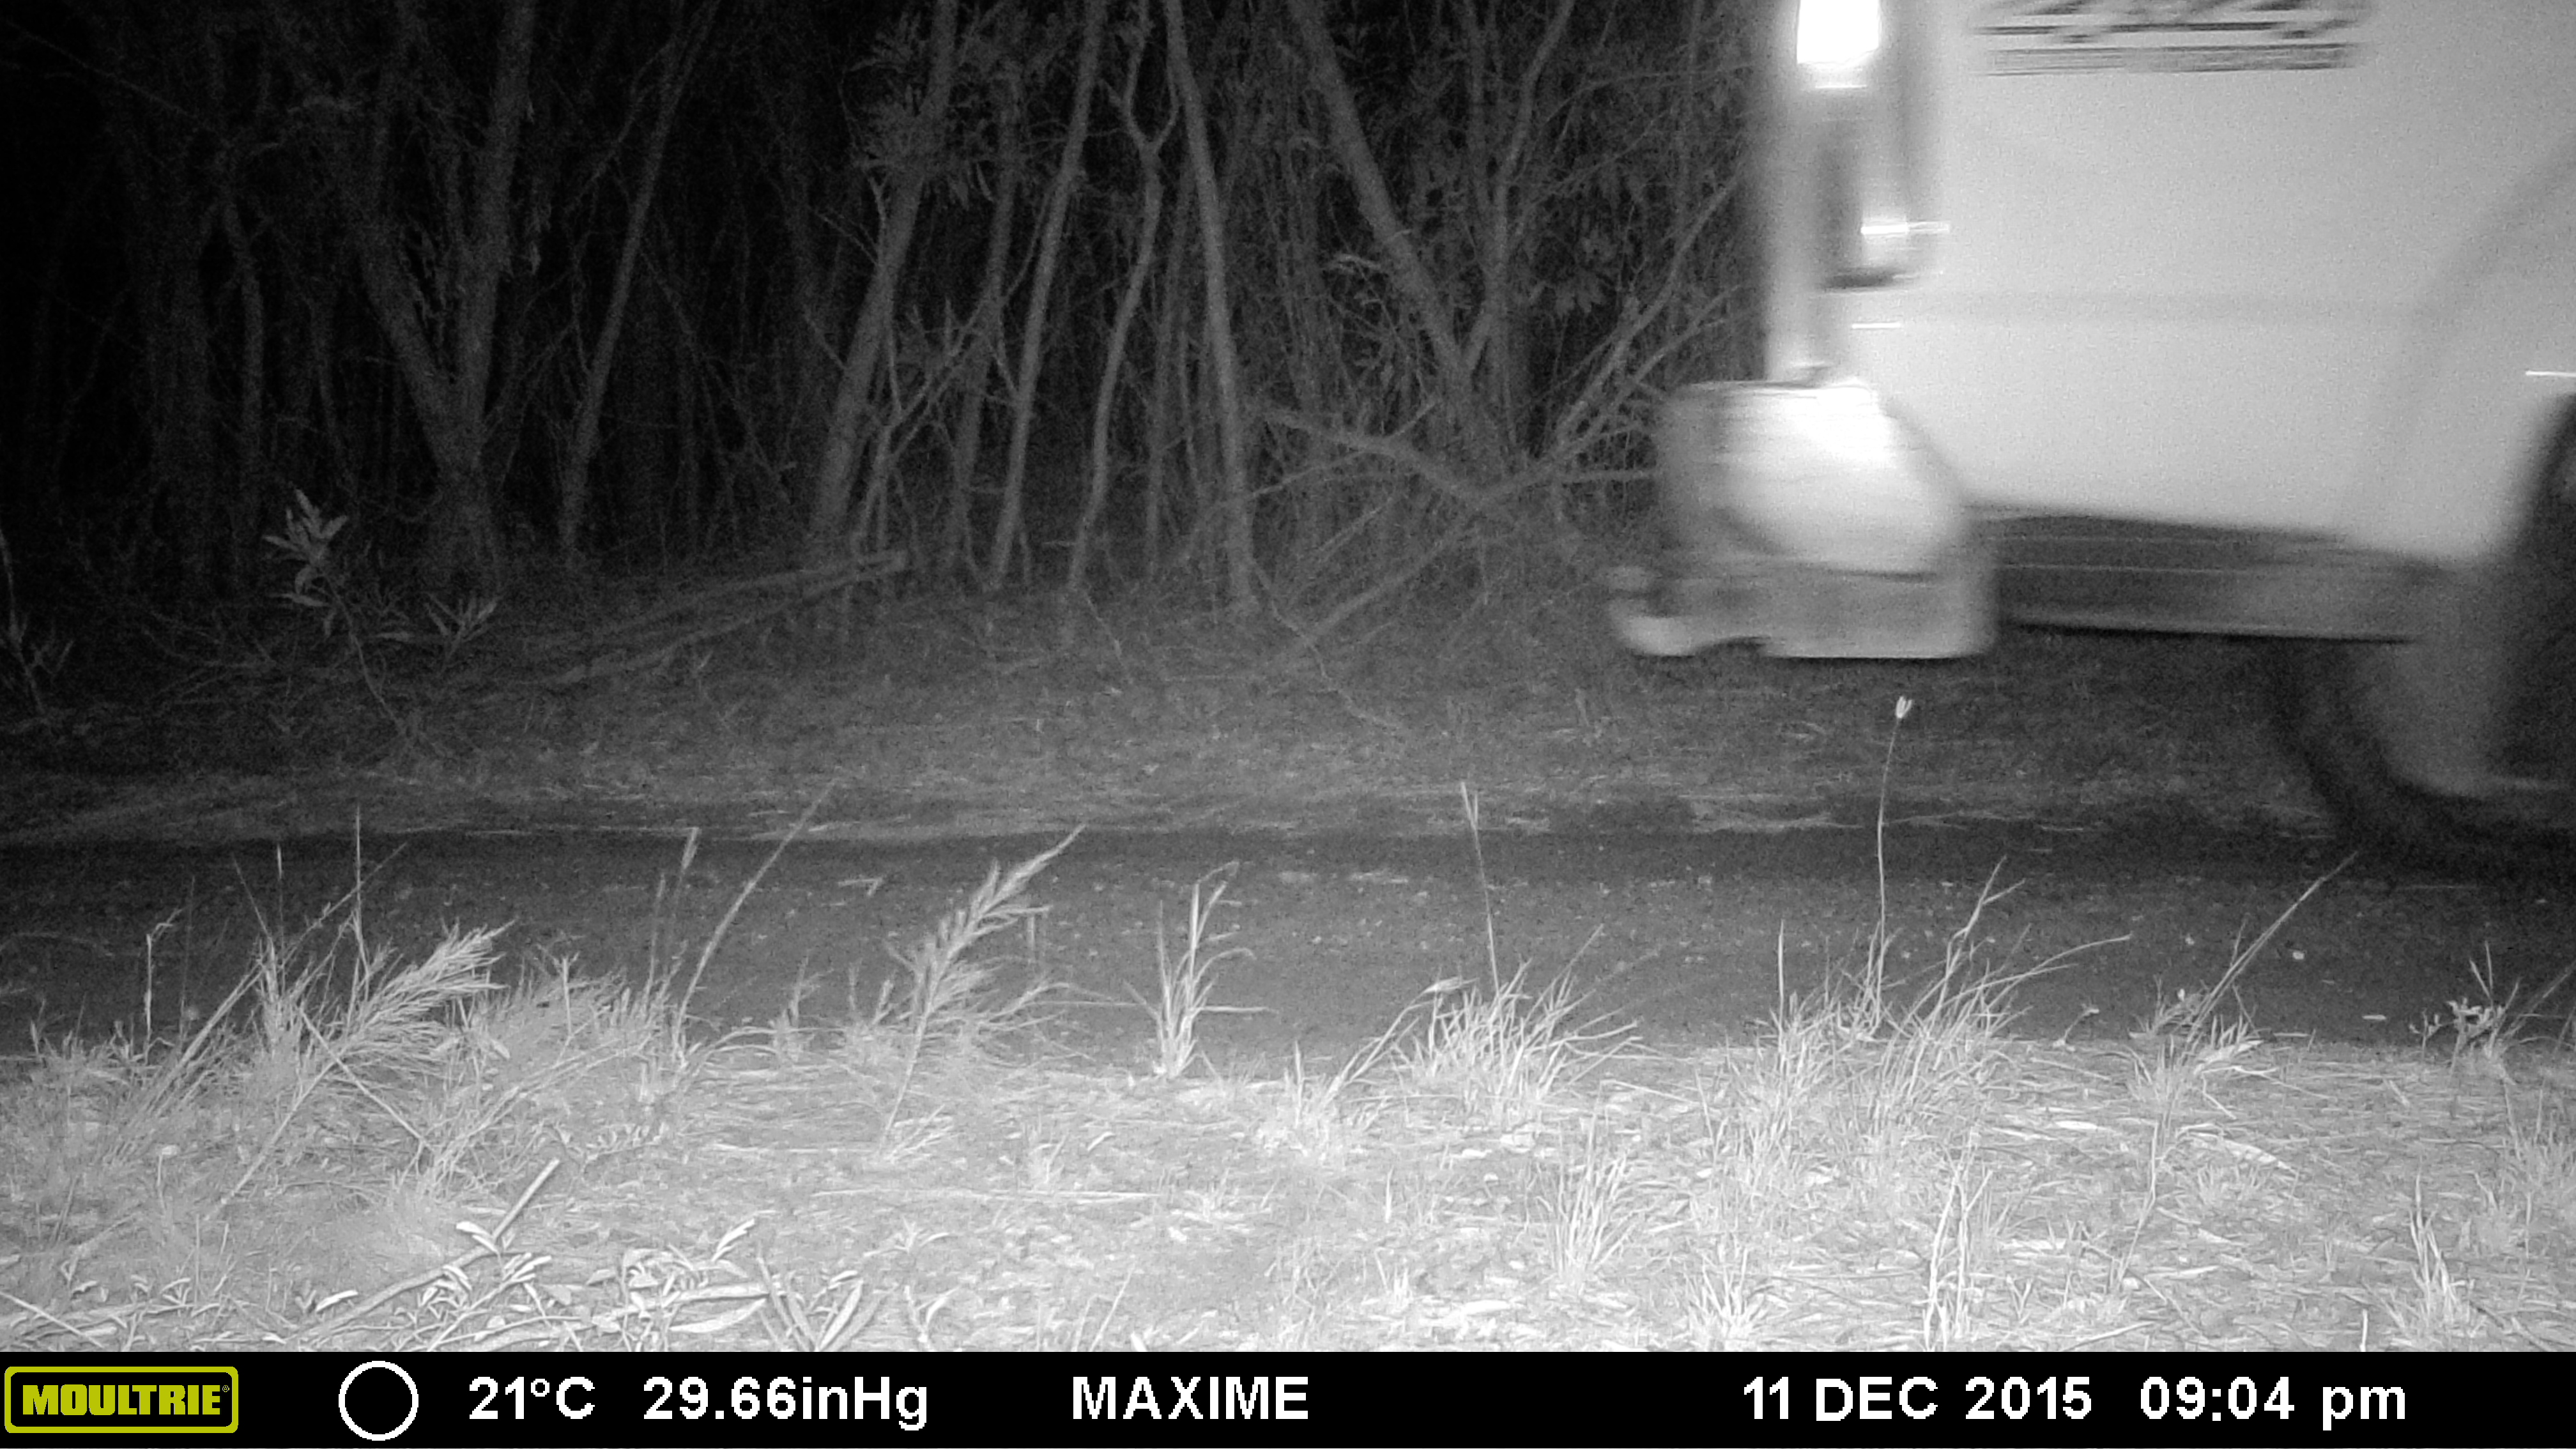Car: (1573, 2, 2564, 906)
